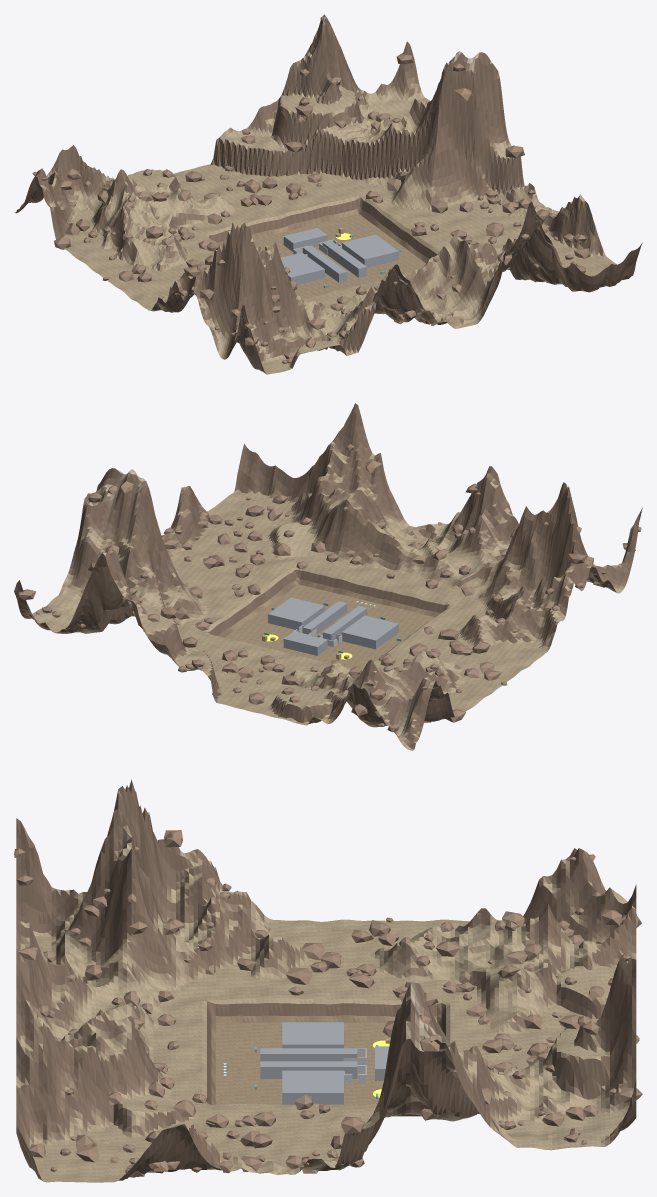
File: relay_sites.glb
3 views of the same model, one above another, from view 1: azimuth 30°, elevation 25°; view 2: azimuth 150°, elevation 25°; view 3: azimuth 270°, elevation 25° (orthographic). The views are drawn at different scales.
Visible parts, largest first — view 1: terrain, bldg_east_block, bldg_west_block, bldg_mid_east, bldg_north_mid, bldg_mid_west; view 2: terrain, bldg_west_block, bldg_east_block, bldg_north_mid, bldg_mid_east, bldg_mid_west; view 3: terrain, bldg_east_block, bldg_west_block, bldg_mid_west, bldg_mid_east.
Part boxes in pixels (x1,y1,x2,y2): terrain: [14, 14, 642, 374]; bldg_east_block: [341, 234, 398, 267]; bldg_west_block: [280, 252, 324, 284]; bldg_mid_east: [322, 240, 367, 277]; bldg_north_mid: [283, 228, 327, 251]; bldg_mid_west: [302, 245, 347, 282]; terrain: [14, 403, 642, 750]; bldg_west_block: [341, 615, 398, 649]; bldg_east_block: [268, 597, 324, 630]; bldg_north_mid: [283, 631, 327, 655]; bldg_mid_east: [302, 601, 347, 634]; bldg_mid_west: [322, 606, 367, 640]; terrain: [16, 779, 636, 1182]; bldg_east_block: [282, 1070, 343, 1104]; bldg_west_block: [282, 1022, 343, 1048]; bldg_mid_west: [260, 1048, 357, 1061]; bldg_mid_east: [260, 1061, 357, 1078].
Size of the model in its own units: 288 by 97.94 by 285.
